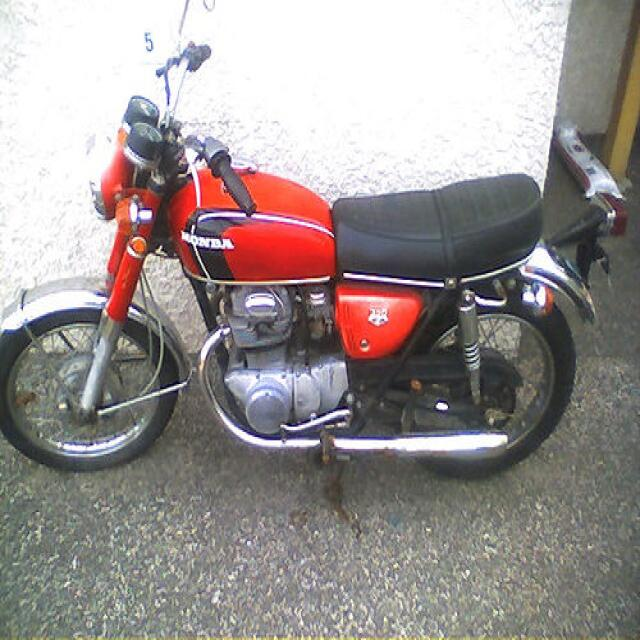motorbike: (1, 42, 627, 504)
